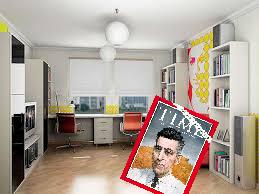times: (118, 93, 220, 193)
